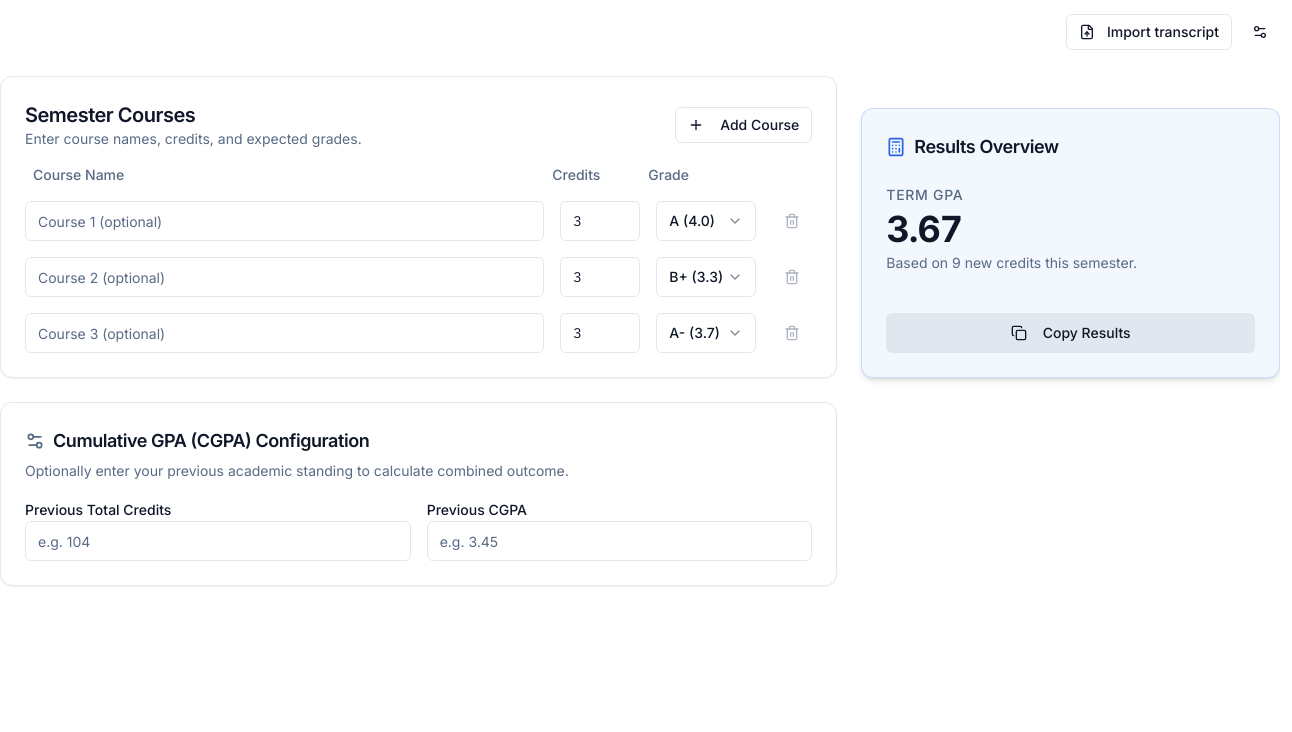
GpaCalculator › adds and removes courses
The image size is (1292, 732).
Expected: the number of dropdowns named "Grade" is 3, [656,201,756,241]; [656,257,756,297]; [656,313,756,353]
Click the button "Add Course". click: (744, 125)
box: [675,107,812,143]
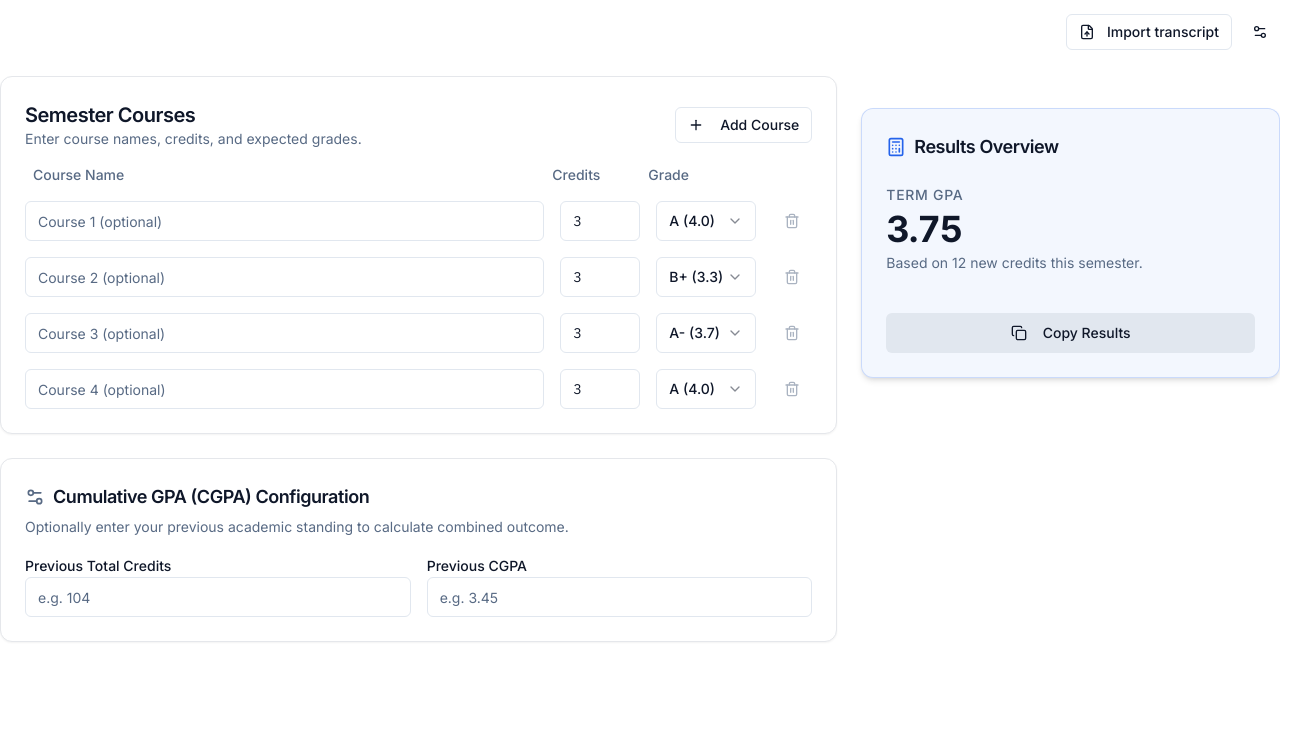
Expected: the number of dropdowns named "Grade" is 4, [656,201,756,241]; [656,257,756,297]; [656,313,756,353]; [656,369,756,409]
Click the 1st button named "Remove Course". click: (792, 221)
box: [772,201,812,241]
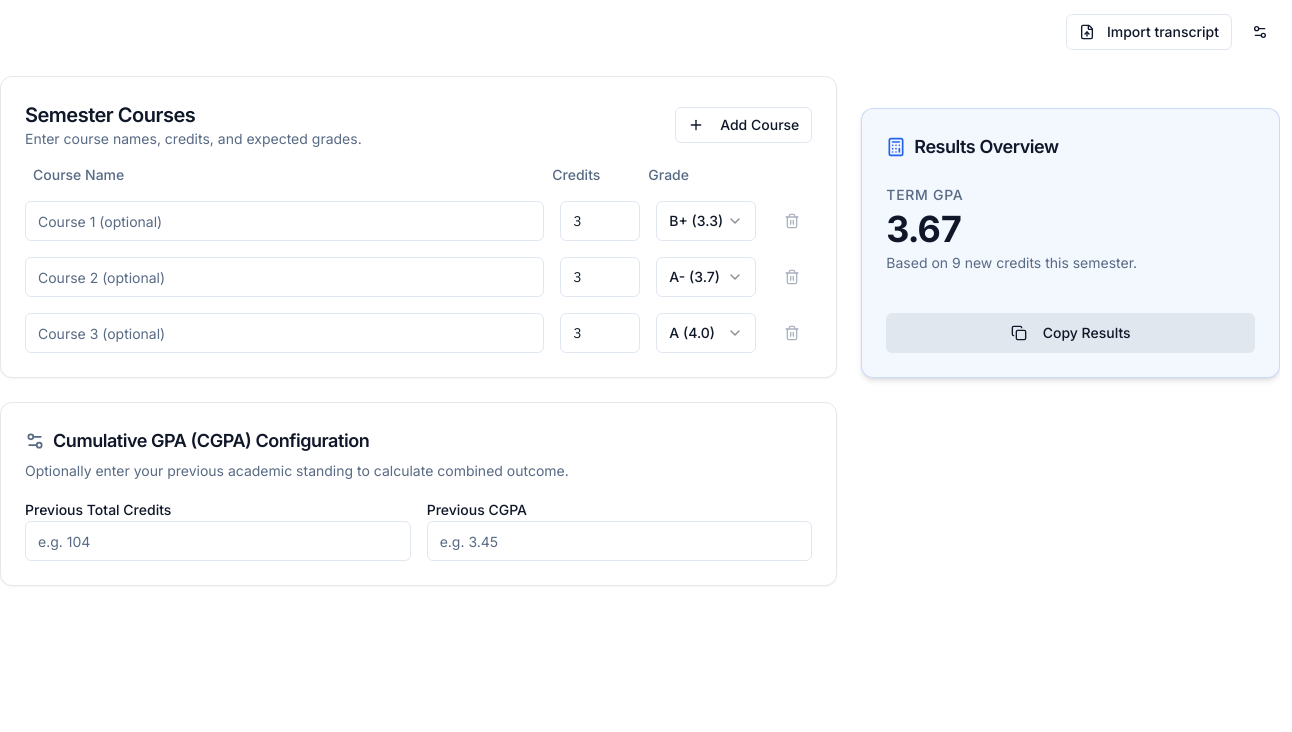
Expected: the number of dropdowns named "Grade" is 3, [656,201,756,241]; [656,257,756,297]; [656,313,756,353]
